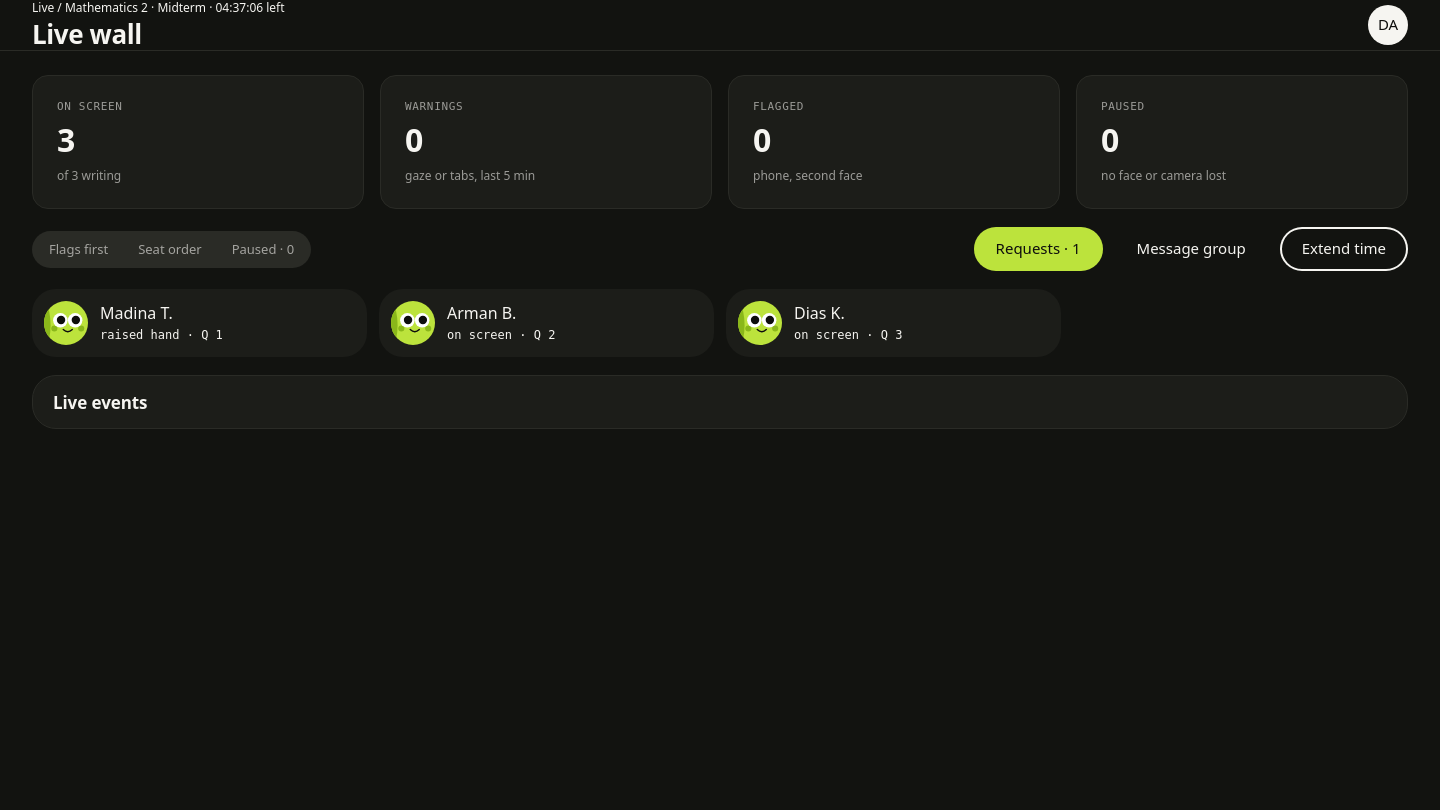
2.4d Ask proctor requests › Mark done closes the request without a reply and clears the badge
Click the button "Requests · 1": coordinates (1038, 249) left=974, top=227, right=1102, bottom=271
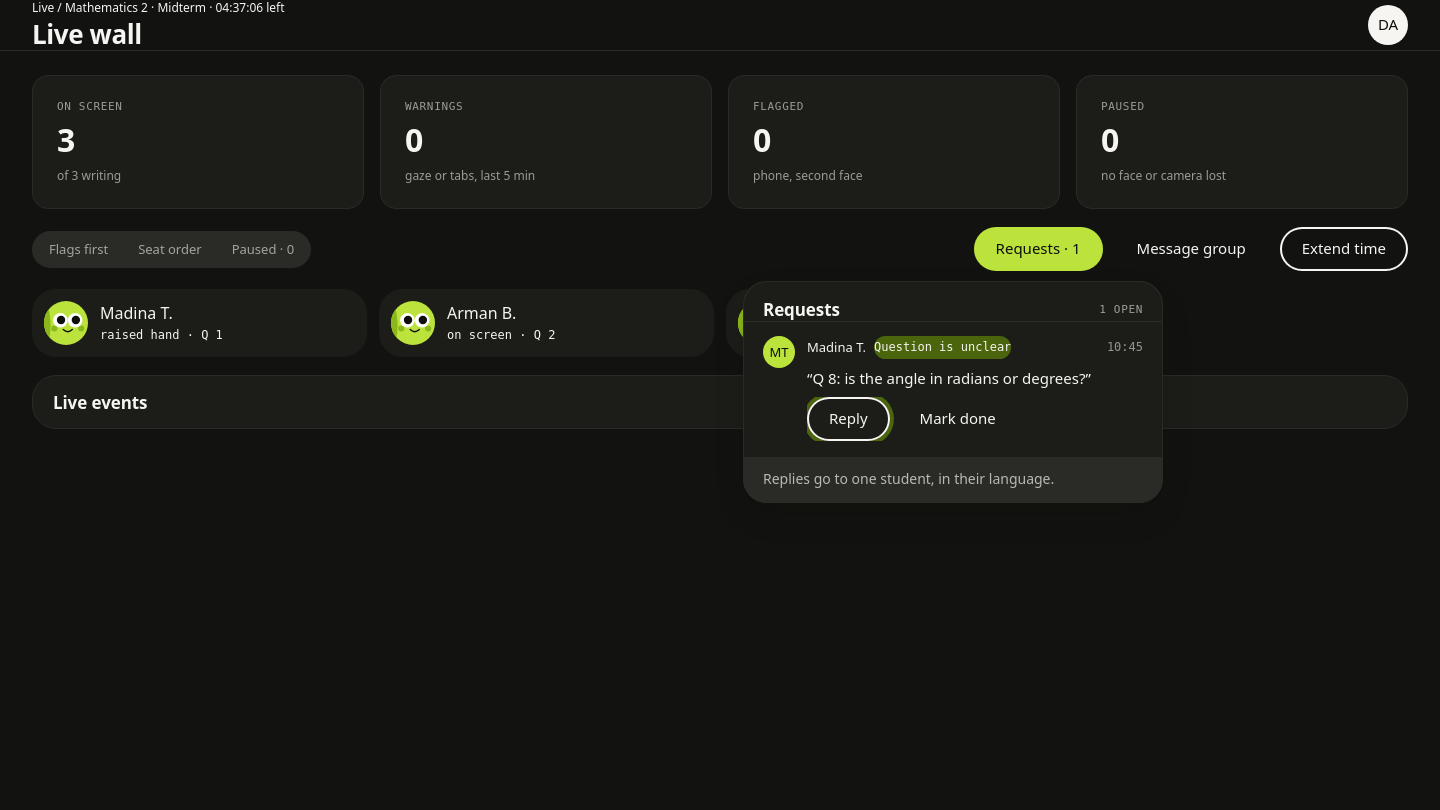
Click the button "Mark done": coordinates (958, 419) left=898, top=397, right=1018, bottom=441
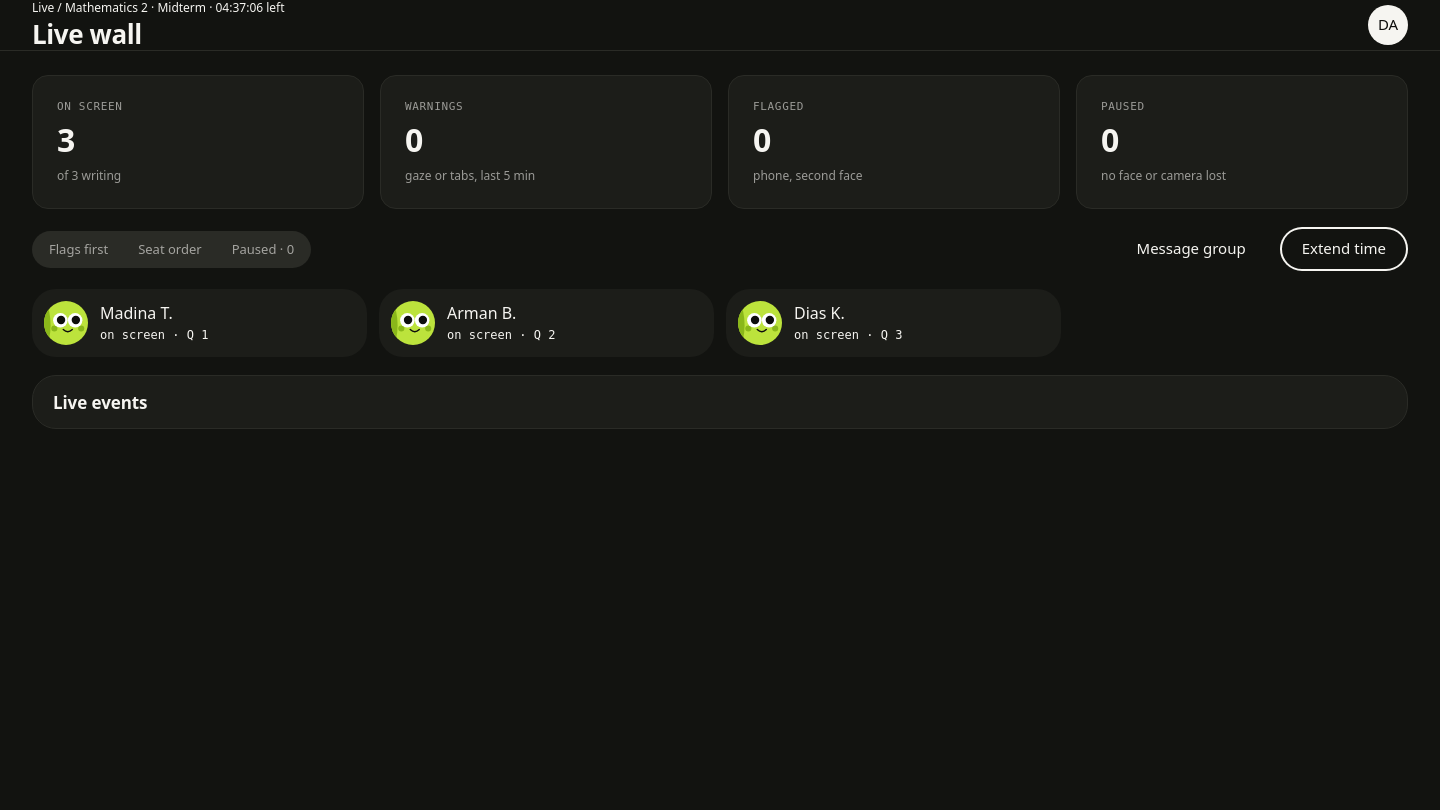
Expected: the button "Requests" is gone
